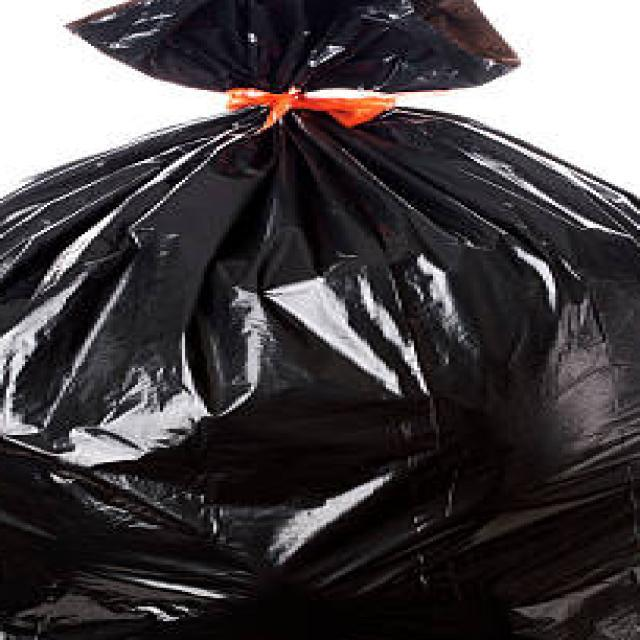Trashbag: (5, 19, 632, 632)
